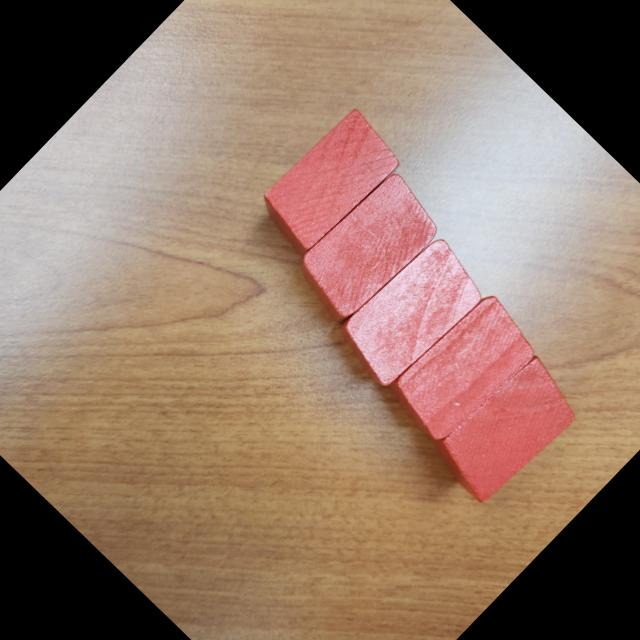red: (423, 344, 589, 512), (380, 288, 545, 454), (330, 230, 494, 396), (288, 166, 449, 330), (250, 104, 406, 261)
